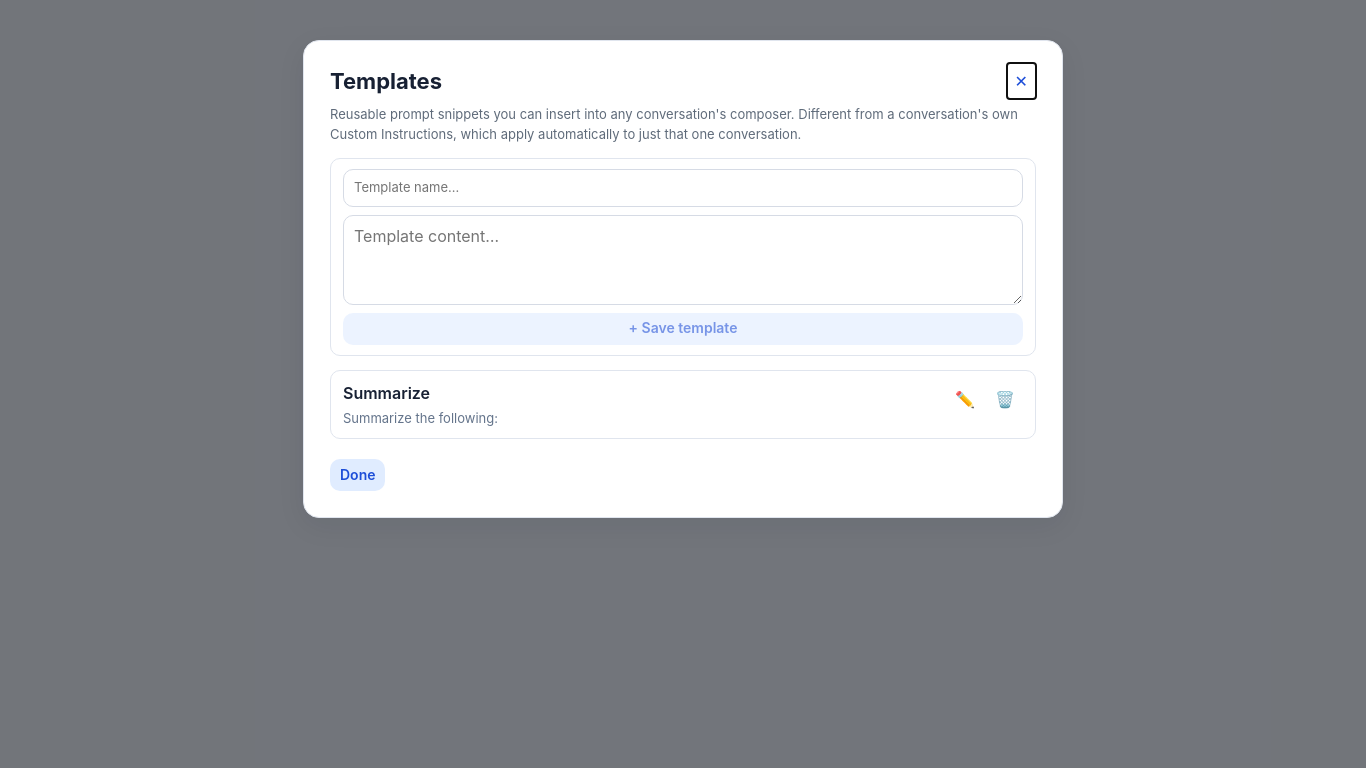
it: Templates › creates a new template via the form
The width and height of the screenshot is (1366, 768).
Expected: the text "Summarize" is shown, x1=343 y1=382 x2=430 y2=402
Type "Translate" into the field named "New template name" at (683, 188), box x1=343 y1=169 x2=1023 y2=206
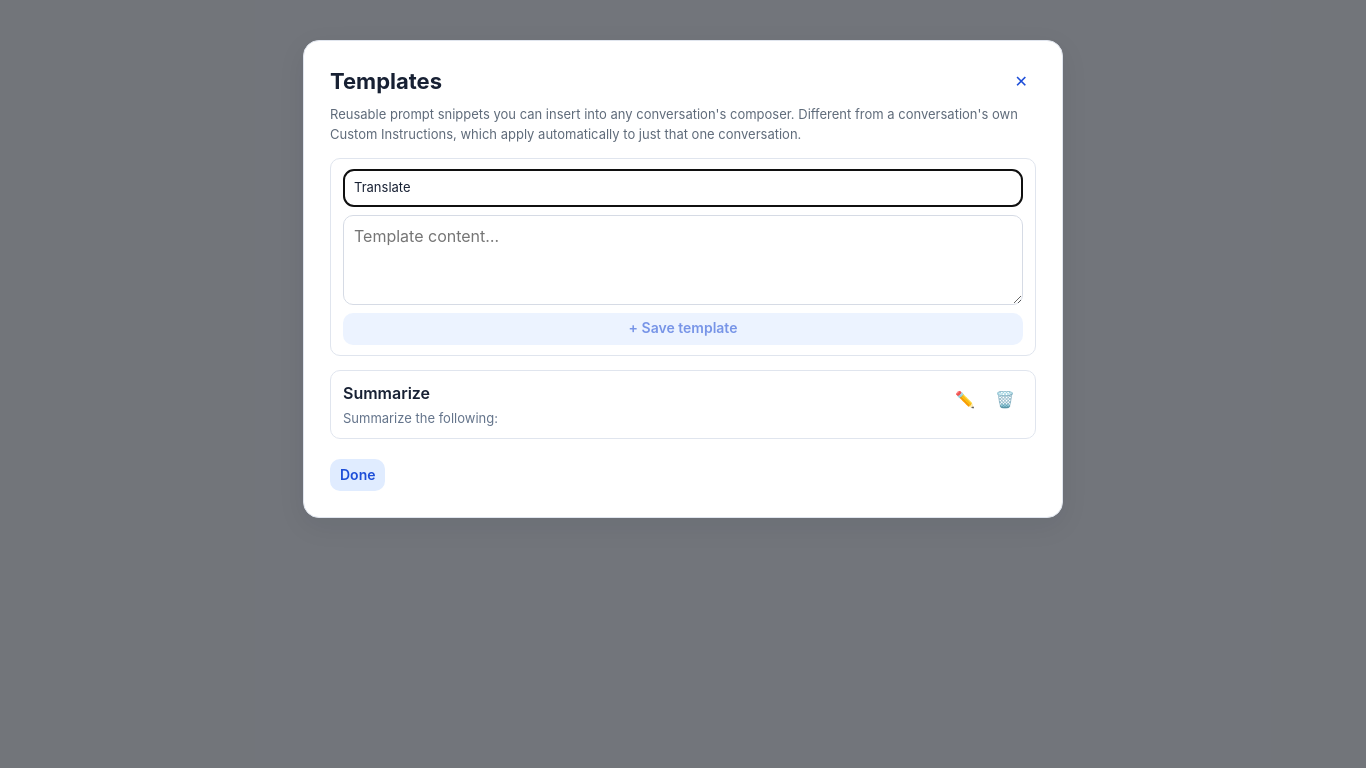
Type "Translate to French:" into the text box named "New template content" at (683, 260), box x1=343 y1=214 x2=1023 y2=304
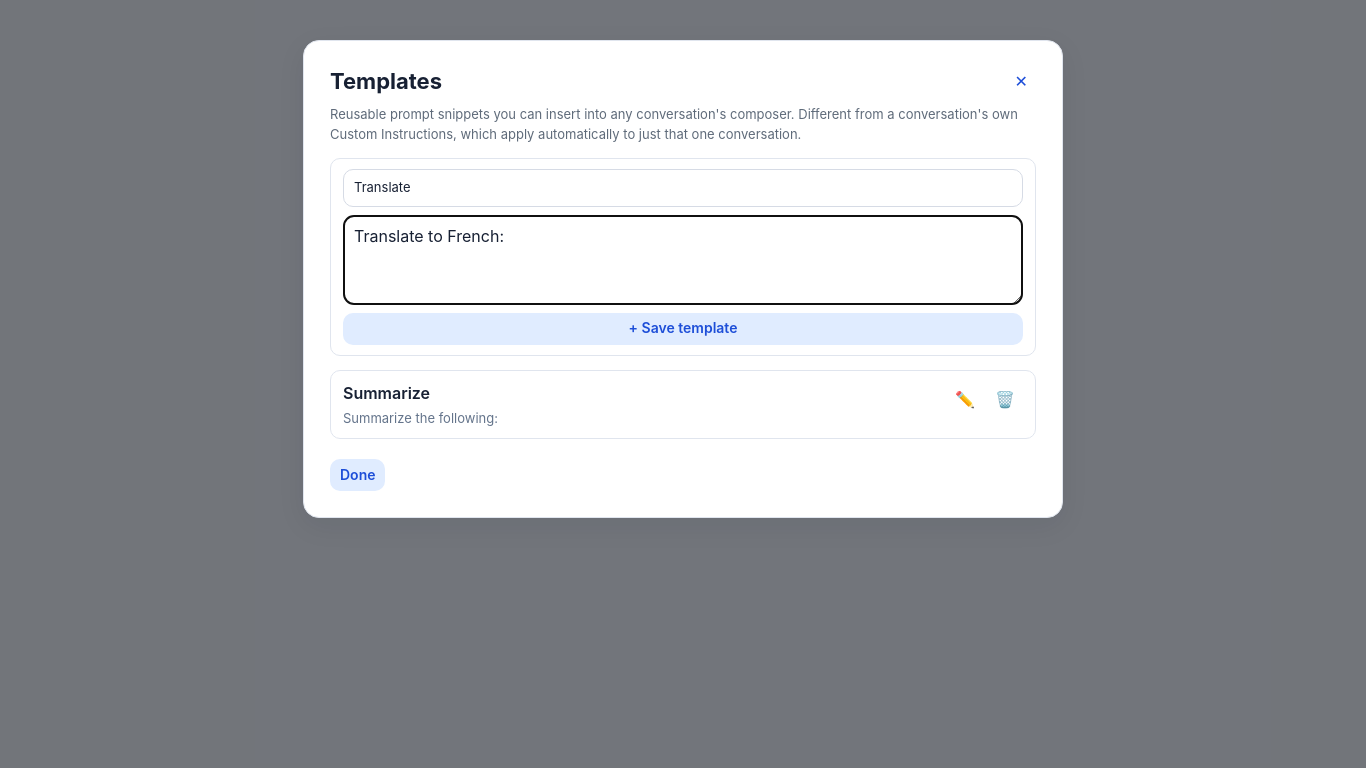
Click the button "+ Save template" at (683, 328), box x1=343 y1=312 x2=1023 y2=344
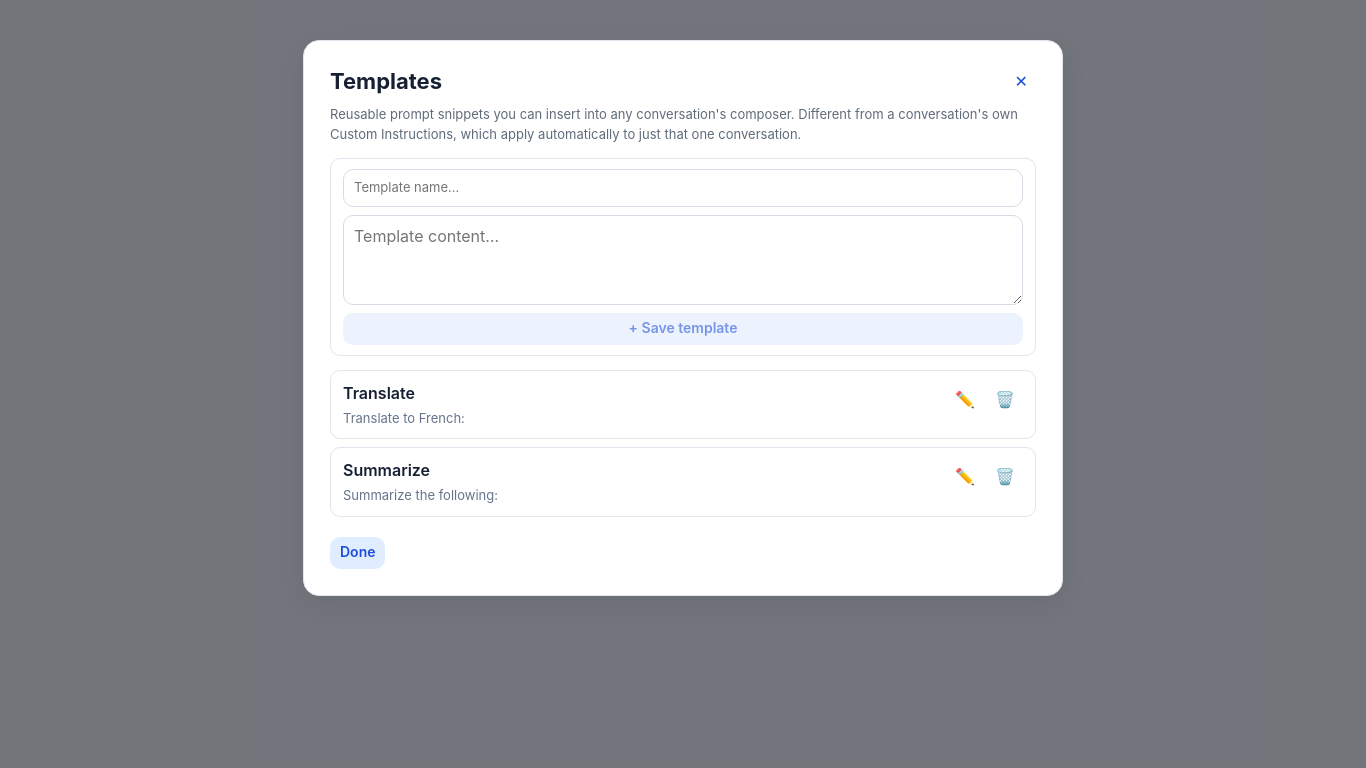
Result: the text "Translate" is shown at x1=343 y1=382 x2=415 y2=402
